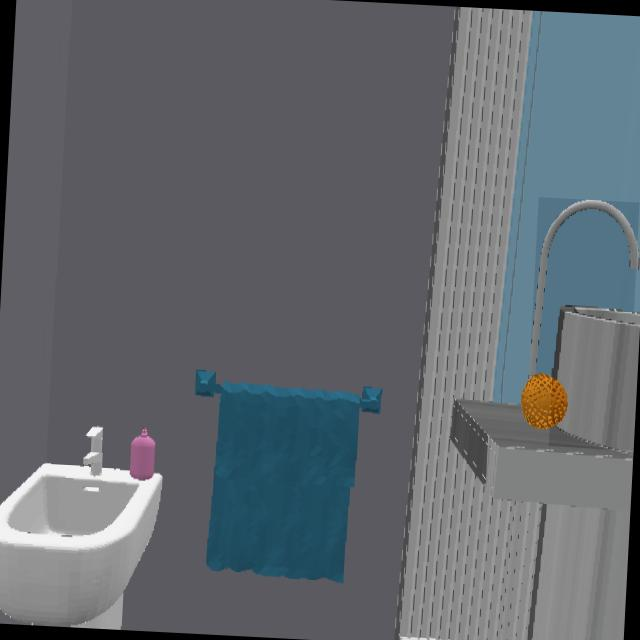washbasin: (0, 465, 164, 627), (531, 201, 637, 376), (552, 308, 640, 451)
